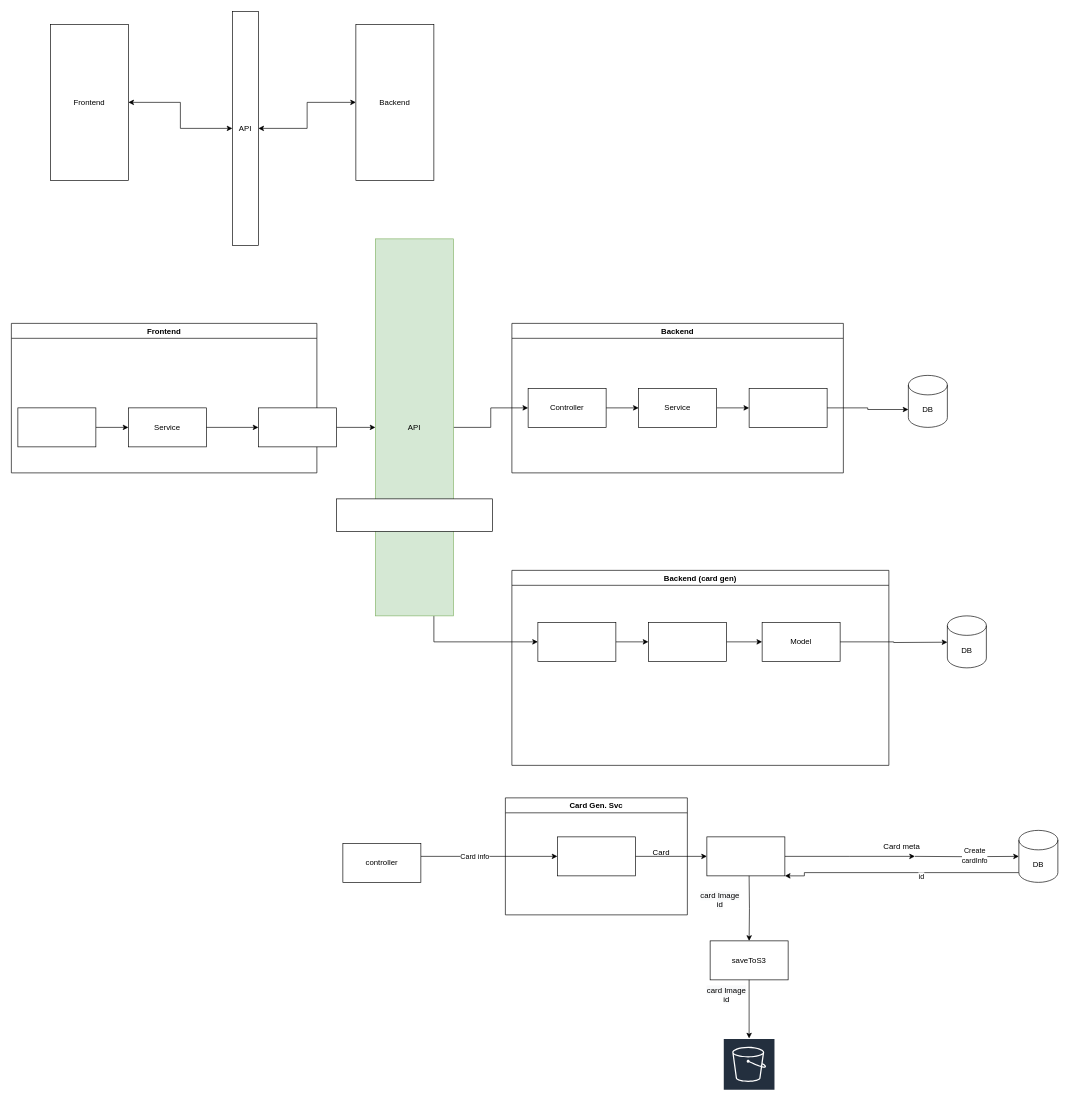
Image size: 1069x1115. Some labels were removed from this diagram. The shapes that lost their labels are listed below. From the top down, each one's centre as x and y in pixels, then its label:
At pixel 56 427: "Component".
At pixel 297 427: "Router".
At pixel 787 407: "Model/ORM".
At pixel 414 514: "Routes/Paths".
At pixel 576 641: "Card generator controller".
At pixel 687 641: "Card generator Svc.".
At pixel 596 856: "GenerateCard()".
At pixel 745 856: "StoreCard()".
At pixel 748 1070: "Amazon S3".
